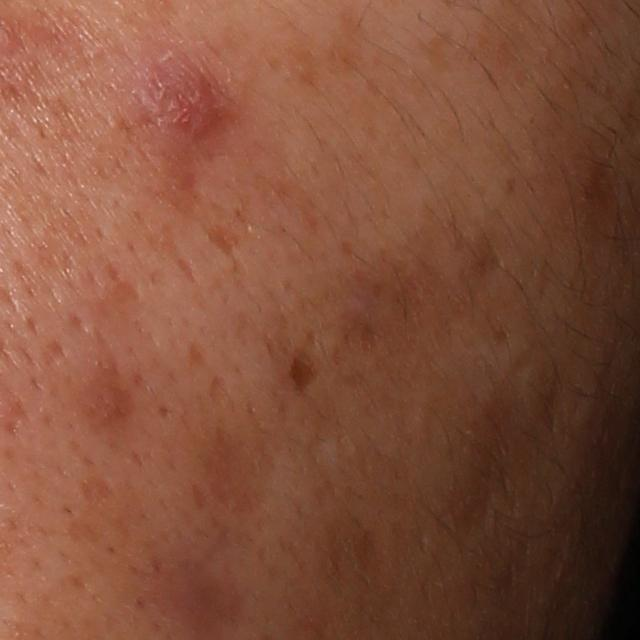atrophic_scar: (206, 223, 247, 277), (286, 350, 321, 396), (74, 473, 119, 505)
papule: (149, 57, 229, 142)
